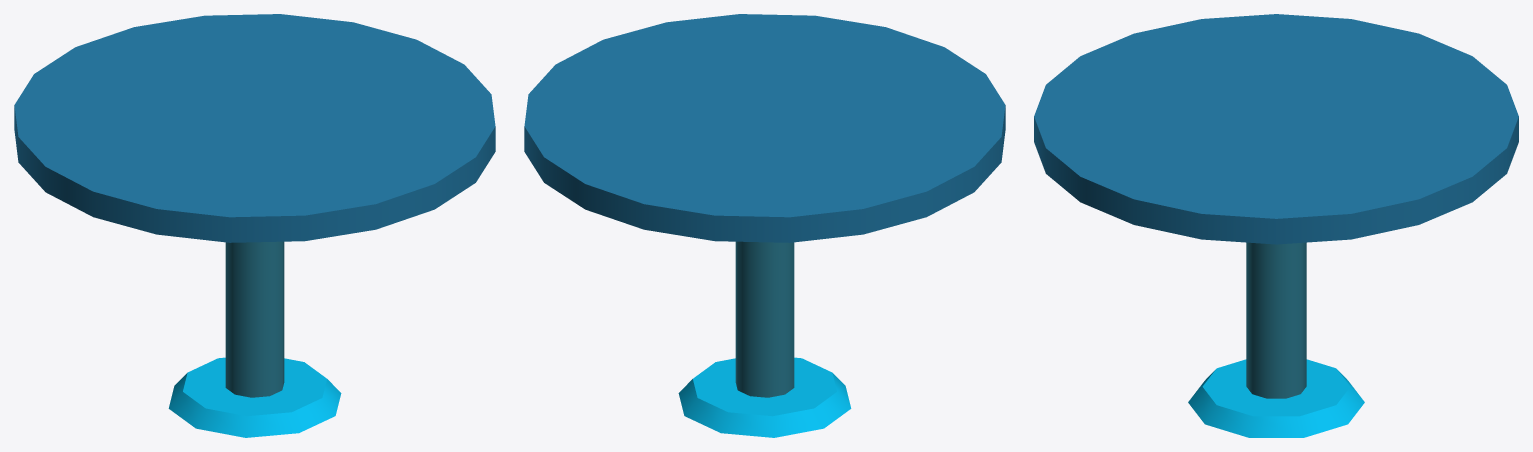
Rendered from coffe_table_04.fbx.
3 renders of one model, left to right at view 1: azimuth 30°, elevation 25°; view 2: azimuth 150°, elevation 25°; view 3: azimuth 270°, elevation 25°, orthographic.
Parts seen in each view (by area): view 1: coffe_table_04; view 2: coffe_table_04; view 3: coffe_table_04.
Boxes of the visible parts, box(x1,y1,x2,y2) form: coffe_table_04: box(14, 14, 495, 437); coffe_table_04: box(524, 14, 1005, 437); coffe_table_04: box(1034, 14, 1518, 437).
Bounding box in the file's own units: 1.2 × 0.7808 × 1.2.
